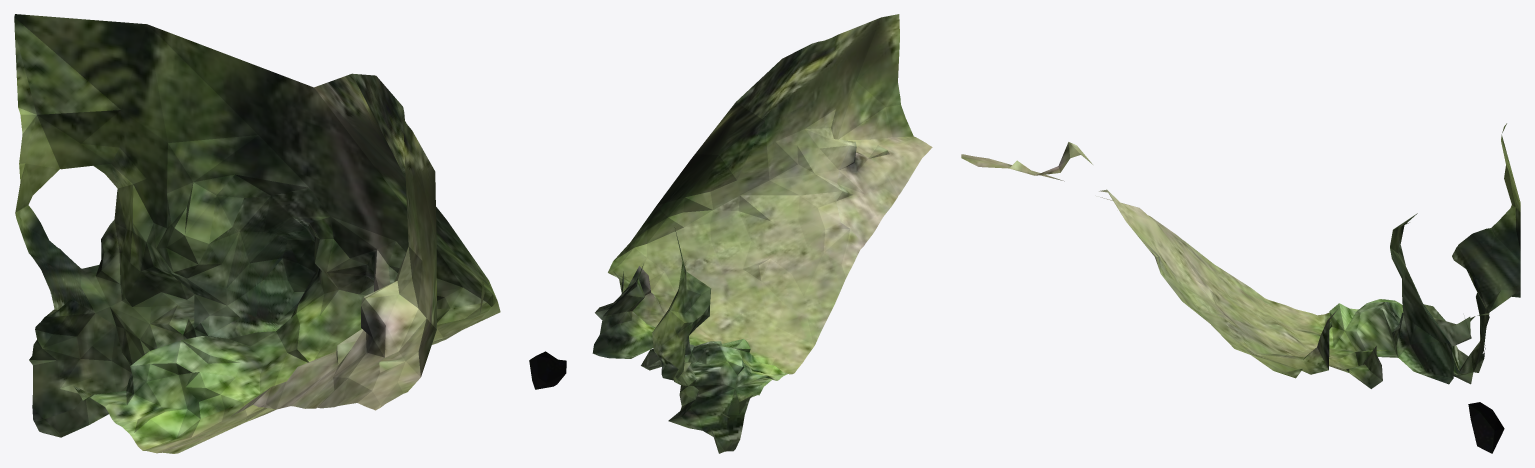
3 renders of one model, left to right at view 1: azimuth 30°, elevation 25°; view 2: azimuth 150°, elevation 25°; view 3: azimuth 270°, elevation 25°, orthographic. The views are drawn at different scales.
Size of the model in its own units: 13.85 by 19.17 by 26.11.
Materials: 2 (2 with a texture image).
